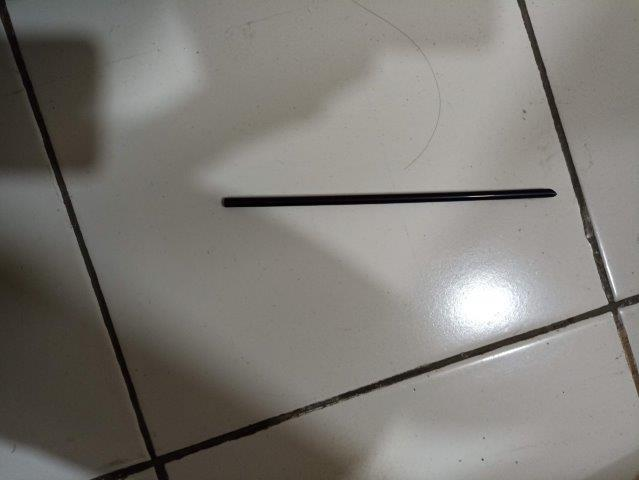sedotan: (224, 188, 558, 207)
